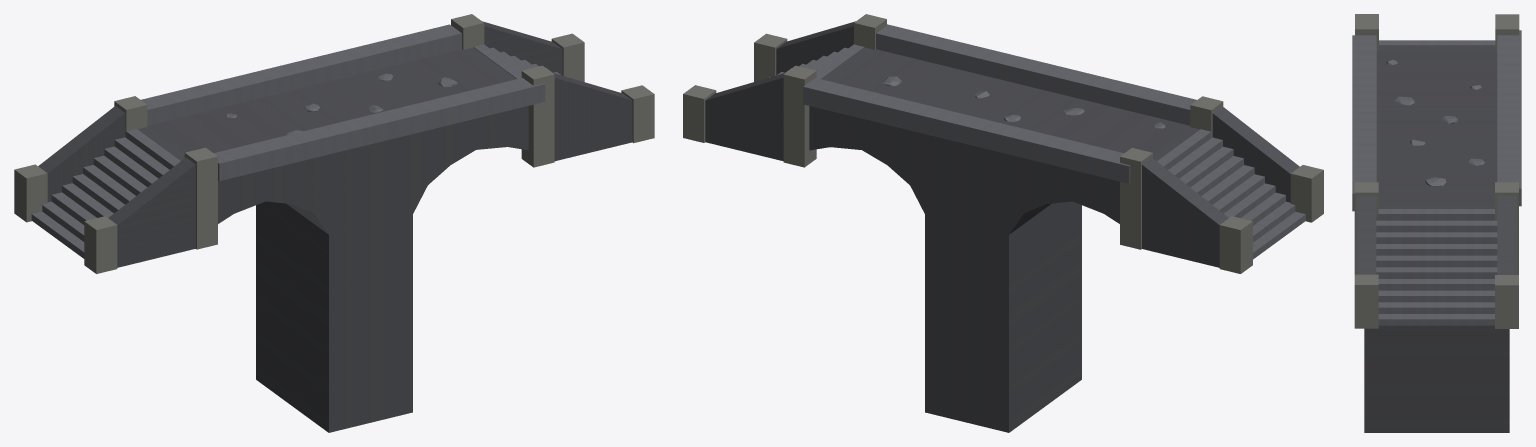
File: Bridge_1_LOD1.fbx
3 renders of one model, left to right at view 1: azimuth 30°, elevation 25°; view 2: azimuth 150°, elevation 25°; view 3: azimuth 270°, elevation 25°, orthographic.
Parts seen in each view (by area): view 1: polySurface10232; view 2: polySurface10232; view 3: polySurface10232.
Part boxes in pixels (left/top/right/bottom): polySurface10232: left=14, top=14, right=654, bottom=432; polySurface10232: left=683, top=14, right=1323, bottom=432; polySurface10232: left=1352, top=14, right=1521, bottom=432.
Bounding box in the file's own units: 1327 × 700 × 350.
